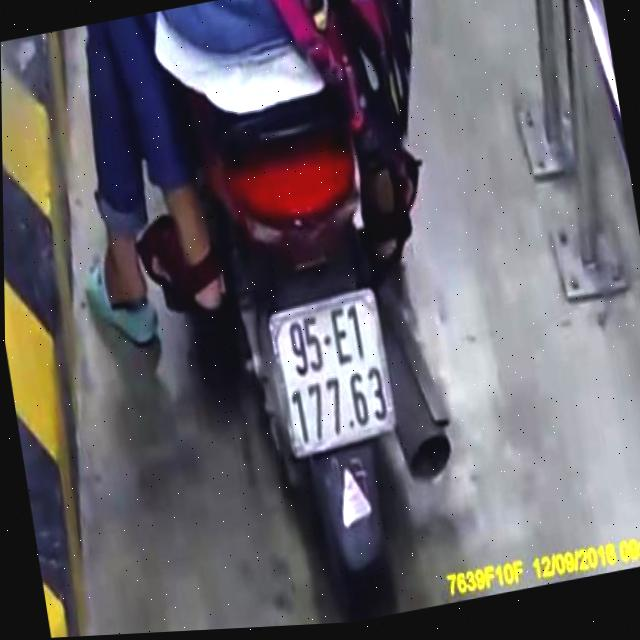motorcycle: (171, 80, 482, 631)
plate: (260, 285, 402, 462)
